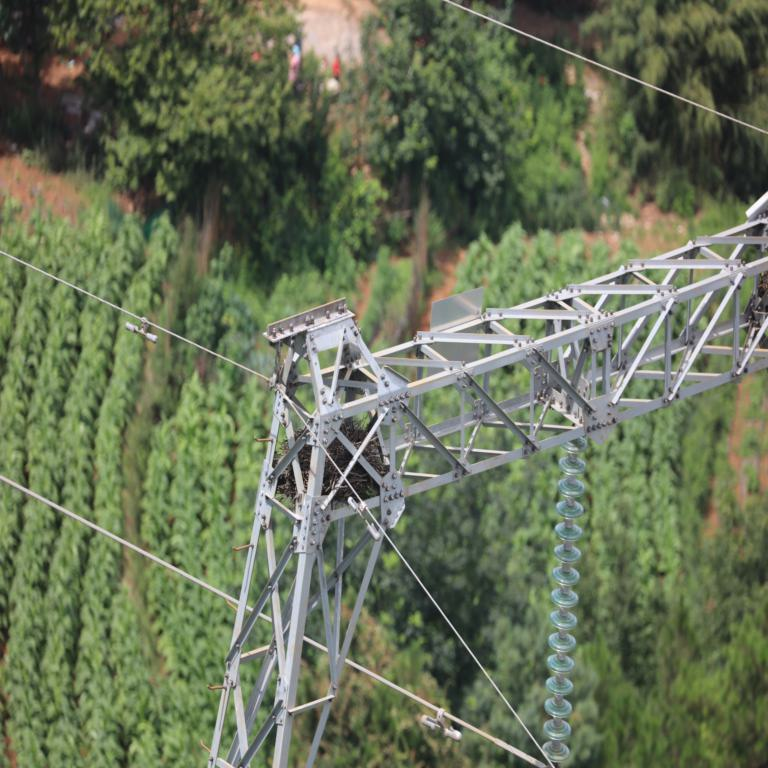nest: (278, 425, 385, 502)
